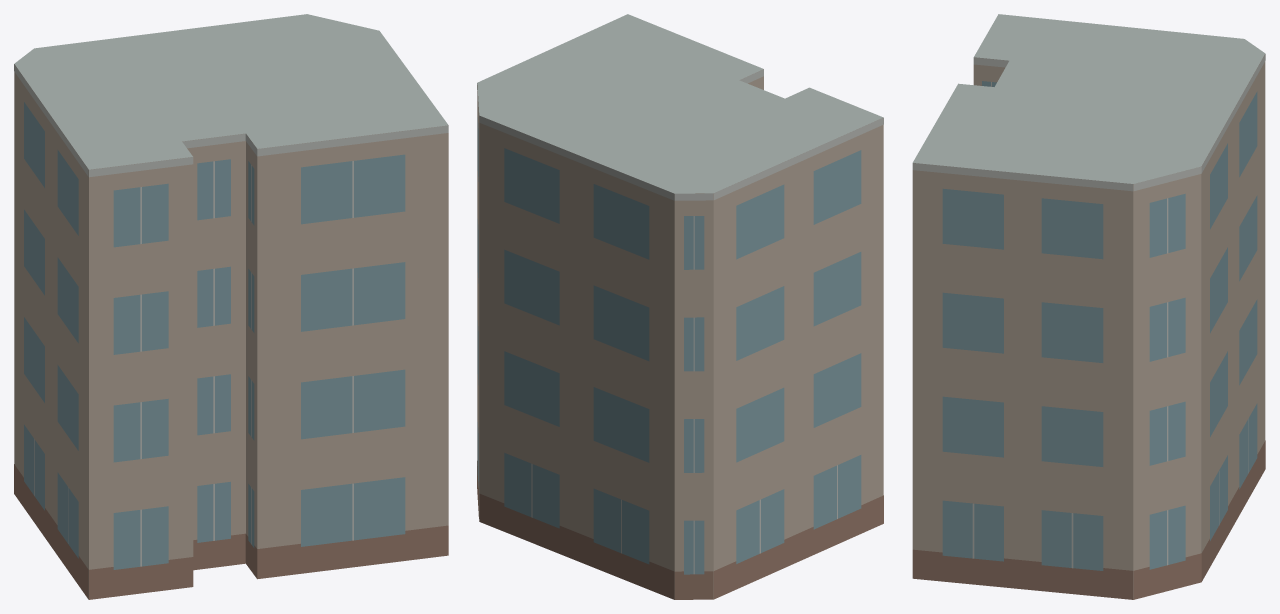
File: survey-upis-32698994.glb
3 renders of one model, left to right at view 1: azimuth 30°, elevation 25°; view 2: azimuth 150°, elevation 25°; view 3: azimuth 270°, elevation 25°, orthographic. The views are drawn at different scales.
Parts seen in each view (by area): view 1: survey-upis-32698994.tmp; view 2: survey-upis-32698994.tmp; view 3: survey-upis-32698994.tmp.
Part boxes in pixels (left/top/right/bottom): survey-upis-32698994.tmp: left=14, top=14, right=448, bottom=599; survey-upis-32698994.tmp: left=477, top=14, right=883, bottom=599; survey-upis-32698994.tmp: left=912, top=14, right=1265, bottom=599.
Size of the model in its own units: 12.21 by 13.91 by 10.71.
